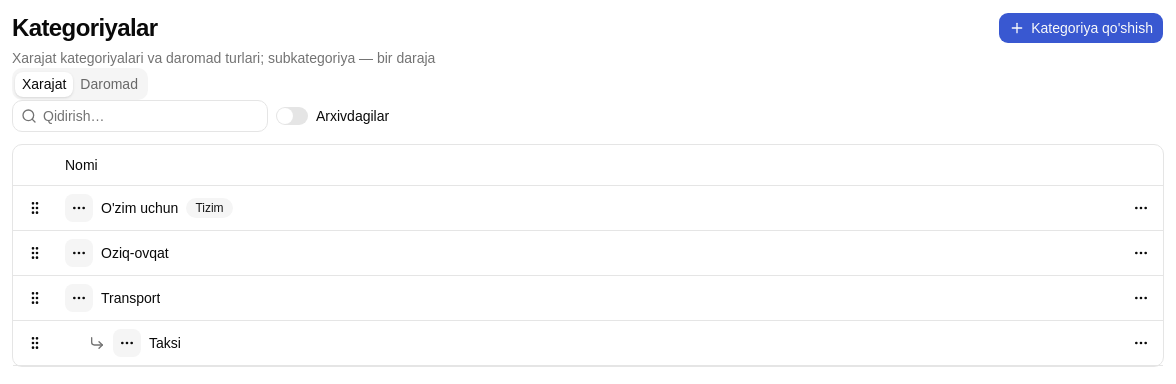
Test: CategoriesPage (E22-T03) › xarajat — daraxt (bola otasidan keyin), daromad — oy siljishi ustuni
This screenshot has width=1176, height=384.
Check: the text "Transport" is shown, box 101,288 -> 160,308
Check: the text "Oylik" is not shown
Step 1. Click the tab "Daromad" → [109, 84], box 73,72 -> 145,96
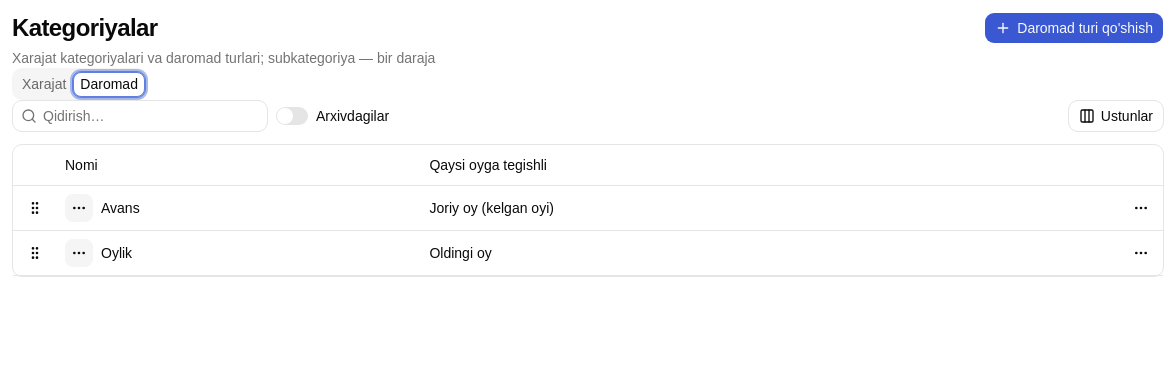
Check: the text "Oldingi oy" is shown, box 421,230 -> 986,275
Check: the text "Joriy oy (kelgan oyi)" is shown, box 421,185 -> 986,230
